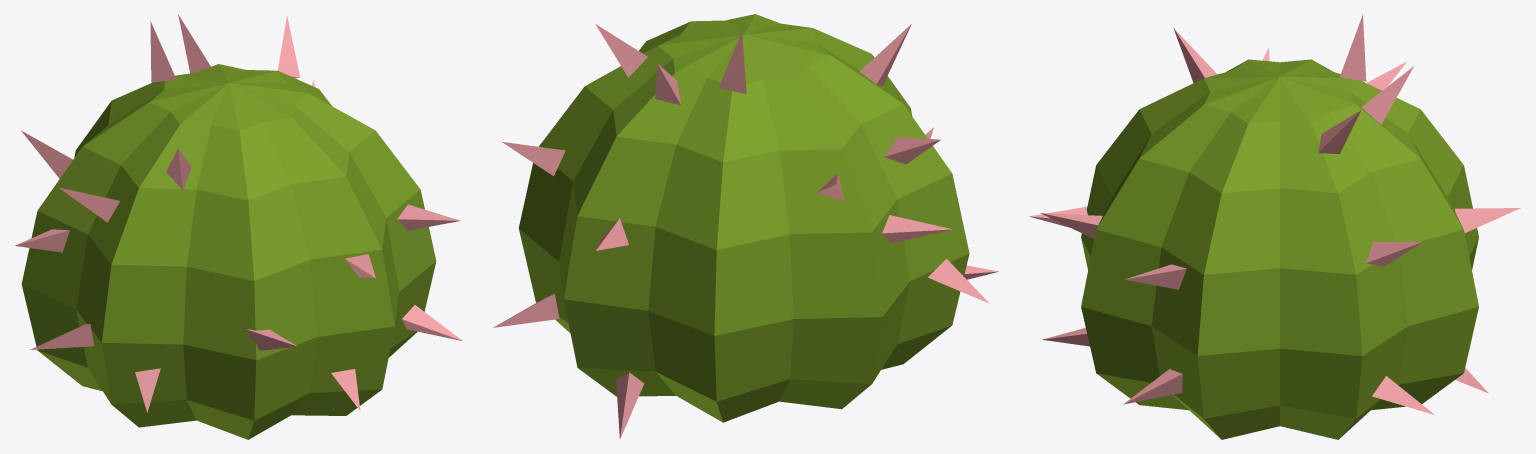
File: Cactus_12_B.fbx
3 renders of one model, left to right at view 1: azimuth 30°, elevation 25°; view 2: azimuth 150°, elevation 25°; view 3: azimuth 270°, elevation 25°, orthographic. The views are drawn at different scales.
Parts seen in each view (by area): view 1: Cactus_12_B; view 2: Cactus_12_B; view 3: Cactus_12_B.
Part boxes in pixels (x1,y1,x2,y2): Cactus_12_B: [15, 14, 462, 439]; Cactus_12_B: [493, 14, 998, 438]; Cactus_12_B: [1029, 14, 1520, 439].
Size of the model in its own units: 100 by 87.79 by 109.
